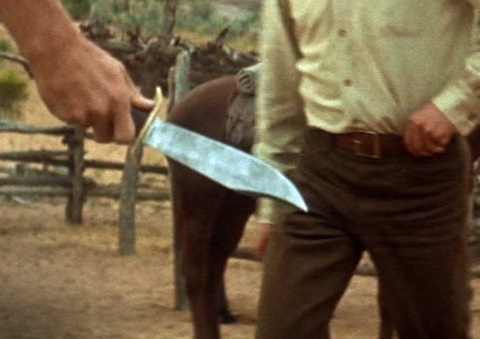knife: (82, 69, 318, 222)
